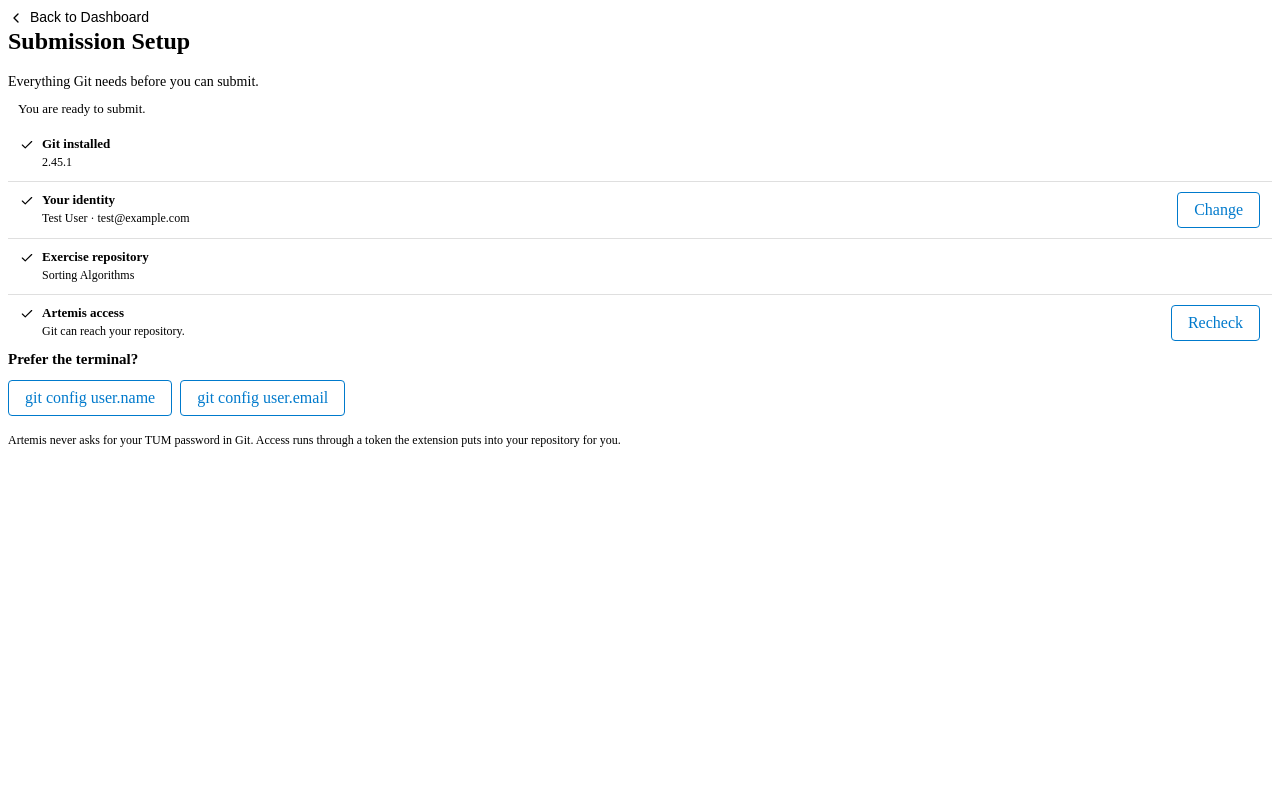
Test: SubmissionSetupView › keeps the identity form closed until asked when the identity is fine
What coordinates should you click on to do the following:
click the button with test id "setup-identity-change"
I would click on:
 (1219, 210)
Its box is [1177, 192, 1260, 228].
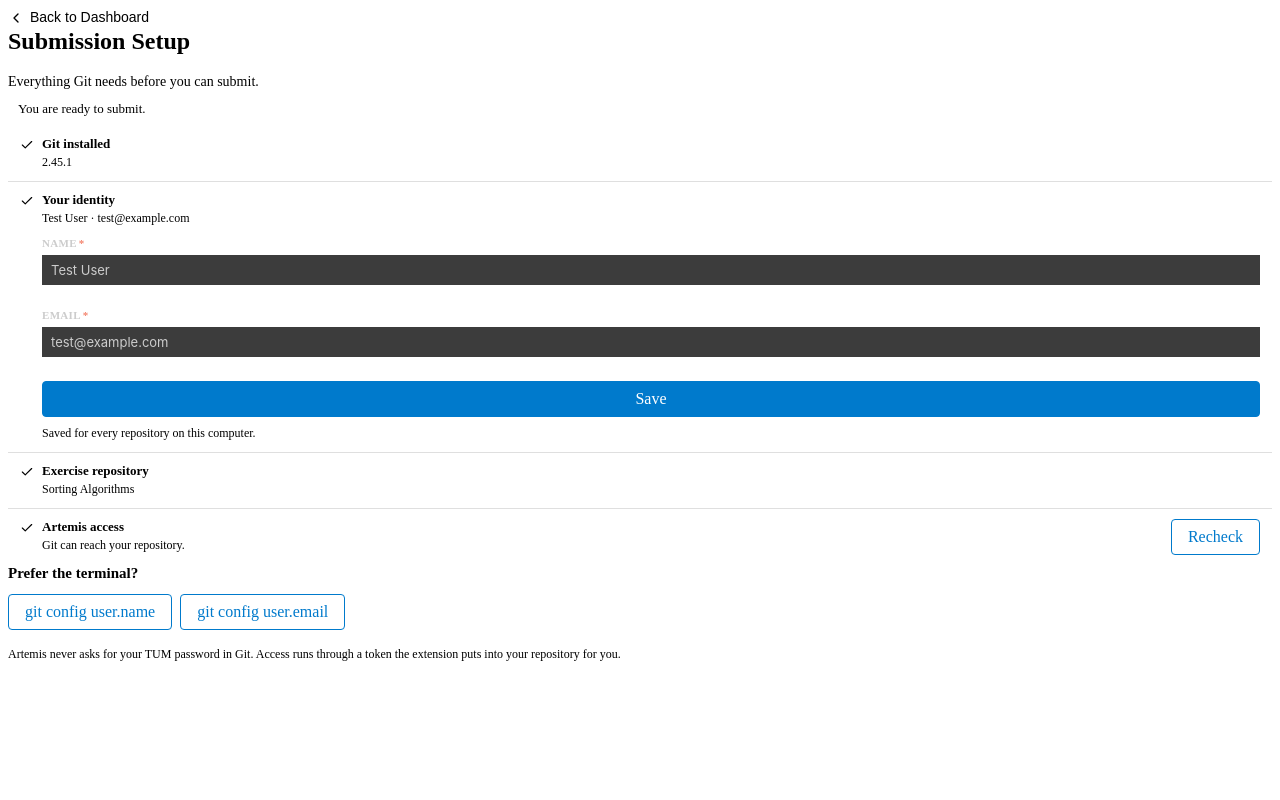
Result: the field with test id "setup-identity-name" is shown at [42, 255, 1260, 285]
